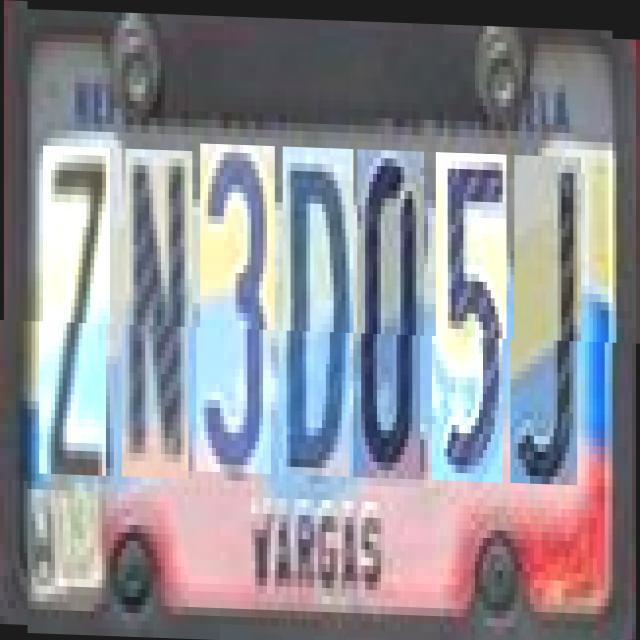0: (357, 146, 424, 476)
3: (200, 142, 275, 472)
5: (436, 148, 506, 478)
D: (282, 144, 354, 474)
J: (514, 151, 581, 481)
N: (126, 148, 192, 478)
Z: (43, 145, 110, 475)
